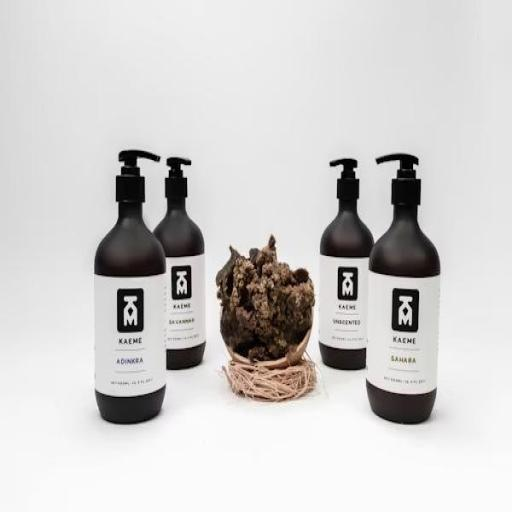bottle: (91, 140, 177, 431), (152, 136, 209, 384)
